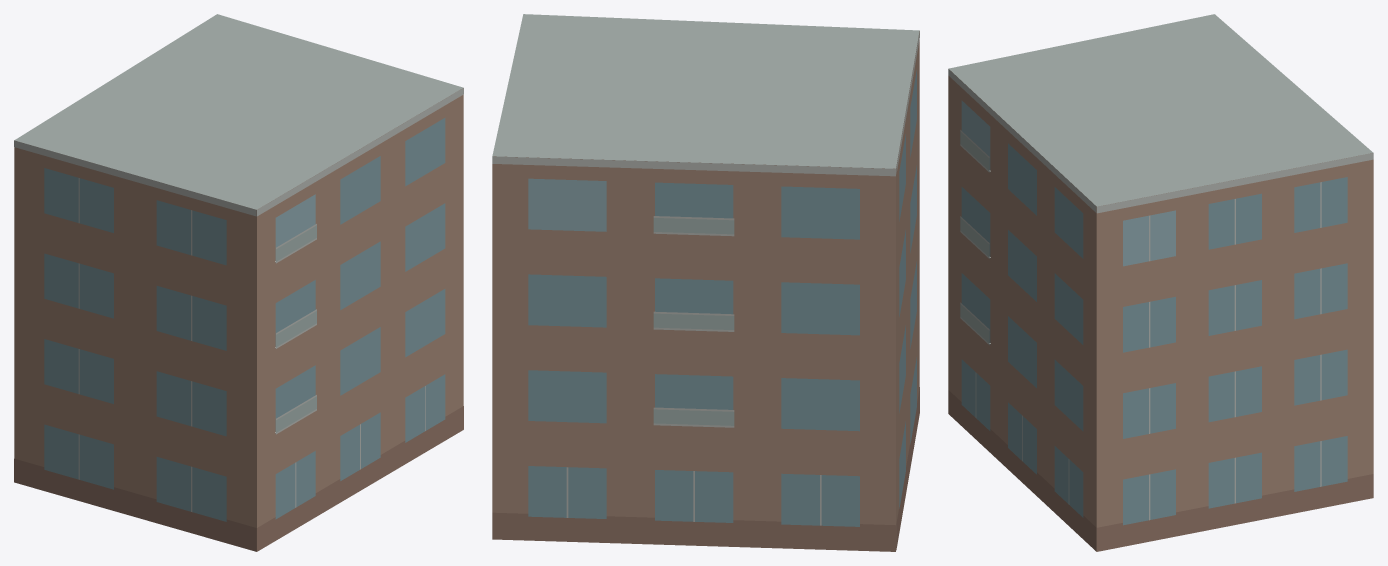
File: survey-upis-32641452.glb
3 renders of one model, left to right at view 1: azimuth 30°, elevation 25°; view 2: azimuth 150°, elevation 25°; view 3: azimuth 270°, elevation 25°, orthographic. The views are drawn at different scales.
Parts seen in each view (by area): view 1: survey-upis-32641452.tmp; view 2: survey-upis-32641452.tmp; view 3: survey-upis-32641452.tmp.
Boxes of the visible parts, left/top/right/bottom form: survey-upis-32641452.tmp: left=14, top=14, right=463, bottom=551; survey-upis-32641452.tmp: left=492, top=14, right=919, bottom=551; survey-upis-32641452.tmp: left=948, top=14, right=1373, bottom=551.
Bounding box in the file's own units: 14.85 × 12.4 × 13.85.
